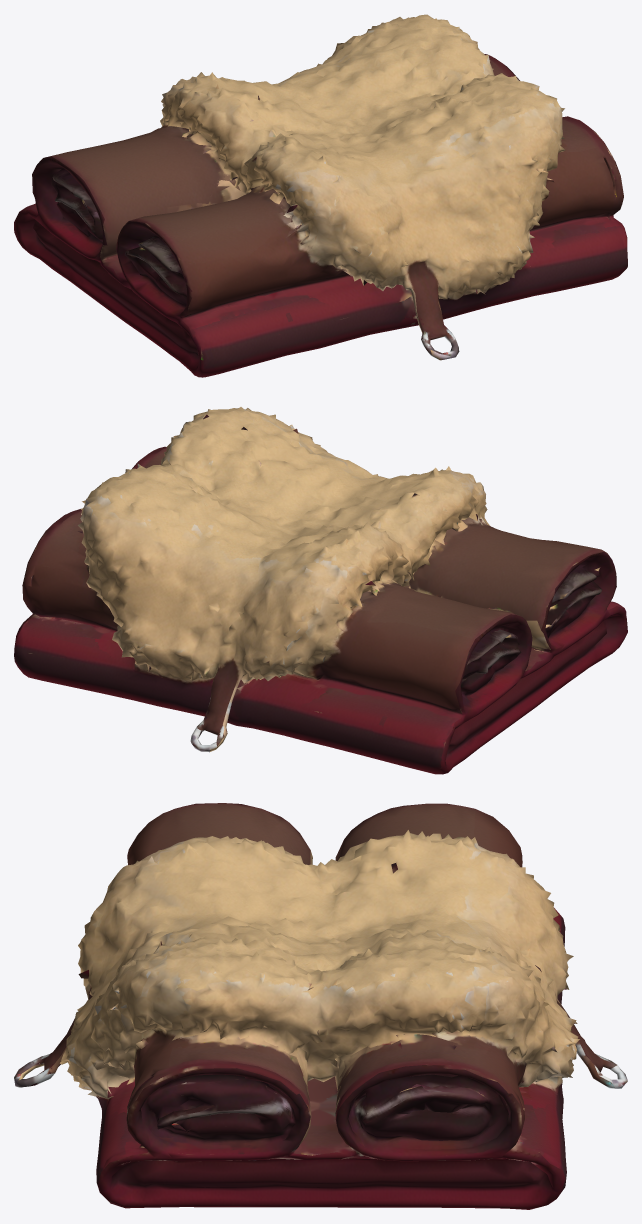
File: recado.glb
3 renders of one model, top to bottom at view 1: azimuth 30°, elevation 25°; view 2: azimuth 150°, elevation 25°; view 3: azimuth 270°, elevation 25°, orthographic. The views are drawn at different scales.
Parts seen in each view (by area): view 1: temp_mesh.ply; view 2: temp_mesh.ply; view 3: temp_mesh.ply.
Boxes of the visible parts, x1=… form: temp_mesh.ply: x1=14, y1=14, x2=627, y2=377; temp_mesh.ply: x1=14, y1=407, x2=627, y2=774; temp_mesh.ply: x1=14, y1=803, x2=627, y2=1209.
Bounding box in the file's own units: 0.8 × 0.3086 × 0.787.
Materials: 1 (1 with a texture image).
